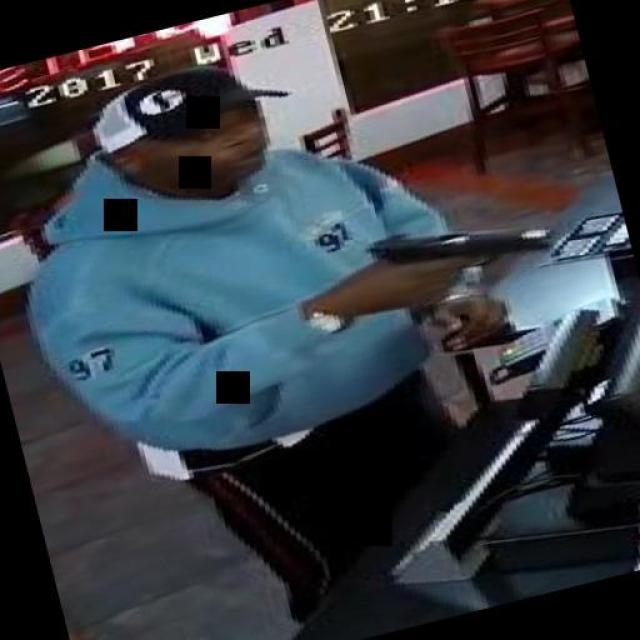gun: (354, 195, 564, 315)
